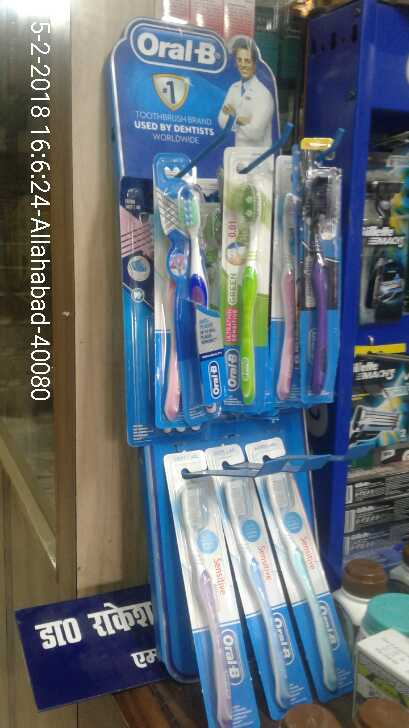beauty: (357, 170, 409, 337), (343, 346, 407, 455)
pharmacy: (159, 172, 233, 413), (301, 135, 345, 402), (225, 148, 267, 407), (275, 159, 303, 401)
